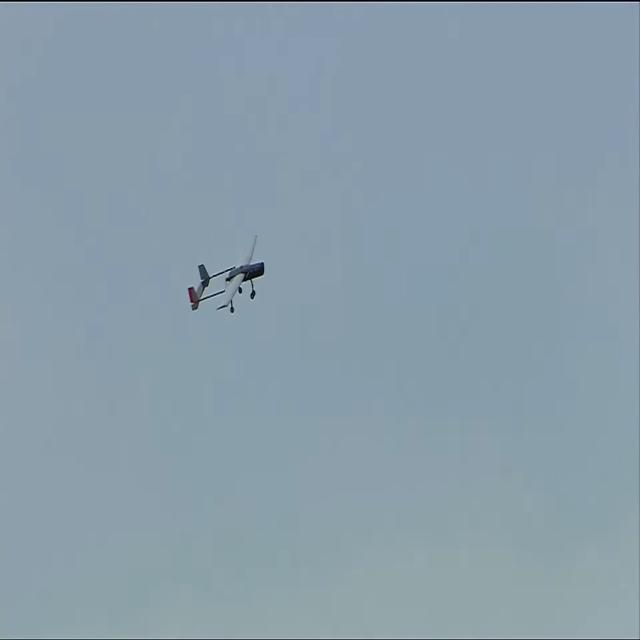iha: (219, 266, 233, 285)
